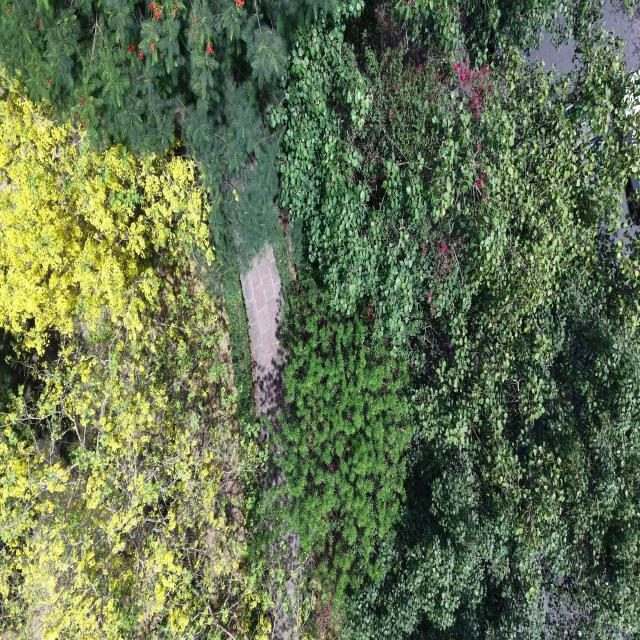DRY_AREA: (602, 0, 639, 72)
PATHWAYS: (241, 246, 284, 416), (241, 246, 283, 415)
VEGETATION_TREE: (0, 0, 639, 639), (277, 4, 639, 638), (0, 83, 270, 638), (0, 0, 333, 257), (0, 81, 212, 354), (275, 268, 411, 590)
